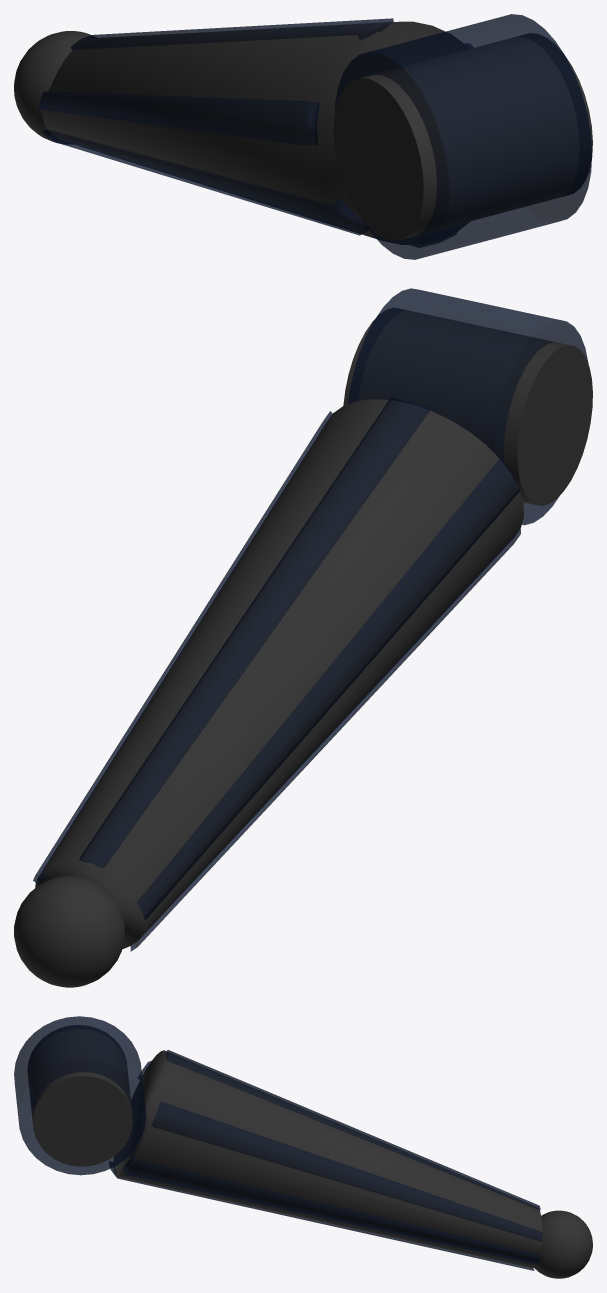
File: left forearm.fbx
3 renders of one model, top to bottom at view 1: azimuth 30°, elevation 25°; view 2: azimuth 150°, elevation 25°; view 3: azimuth 270°, elevation 25°, orthographic. The views are drawn at different scales.
Parts seen in each view (by area): view 1: Left_Forearm, Inner Elbow_Left, Left_Elbow, Forearm Decor 2_Left, Forearm Decor 1_Left, Left_Wrist; view 2: Left_Forearm, Inner Elbow_Left, Forearm Decor 2_Left, Left_Elbow, Forearm Decor 1_Left, Left_Wrist; view 3: Left_Forearm, Inner Elbow_Left, Forearm Decor 2_Left, Left_Elbow, Forearm Decor 1_Left, Left_Wrist.
Boxes of the visible parts, x1,y1,x2,y2 form: Left_Forearm: (42,21,469,244); Inner Elbow_Left: (333,33,592,240); Left_Elbow: (334,14,592,259); Forearm Decor 2_Left: (43,18,459,247); Forearm Decor 1_Left: (38,44,472,145); Left_Wrist: (14,31,96,143); Left_Forearm: (35,399,523,949); Inner Elbow_Left: (343,308,592,505); Forearm Decor 2_Left: (79,397,520,951); Left_Elbow: (348,288,588,525); Forearm Decor 1_Left: (33,411,519,920); Left_Wrist: (14,876,124,987); Left_Forearm: (113,1050,542,1267); Inner Elbow_Left: (28,1025,132,1166); Forearm Decor 2_Left: (109,1050,540,1270); Left_Elbow: (14,1016,146,1175); Forearm Decor 1_Left: (138,1061,542,1241); Left_Wrist: (534,1210,592,1278).
Size of the model in its own units: 189 by 357 by 795.
